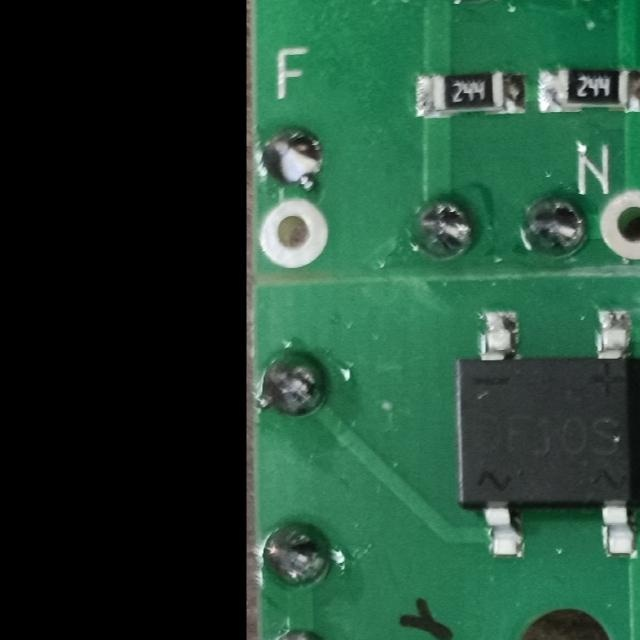chip-resistor: (414, 70, 530, 119), (536, 66, 640, 113)
ic: (449, 305, 640, 567)
